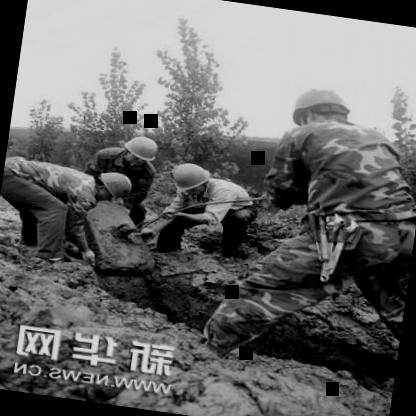helmet: (286, 76, 360, 146), (166, 158, 216, 198), (116, 132, 164, 172), (92, 169, 134, 206)
